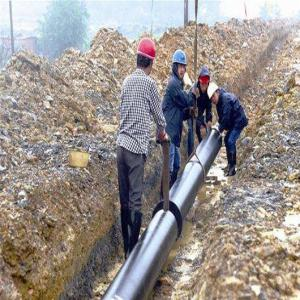blue: (172, 49, 188, 80)
red: (135, 37, 157, 77), (199, 72, 211, 95)
white: (207, 82, 221, 107)
